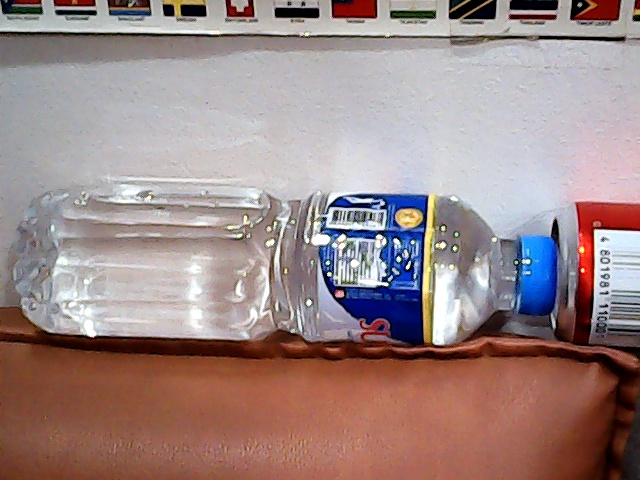Summit Water: (5, 167, 559, 375)
